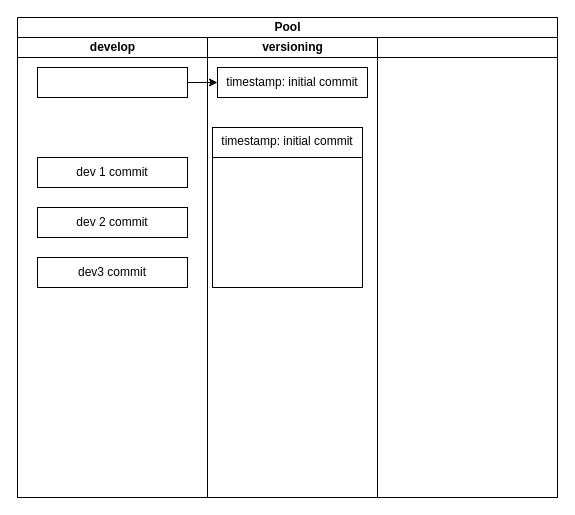
Some shapes in this 575 by 515 pixel diagram are drawn without their labels. Each missing label, with the centre of its shape:
dev 1, dev 2, dev 3: the point at 287,222
initial commit: the point at 112,82
Lane 3: the point at 467,267
